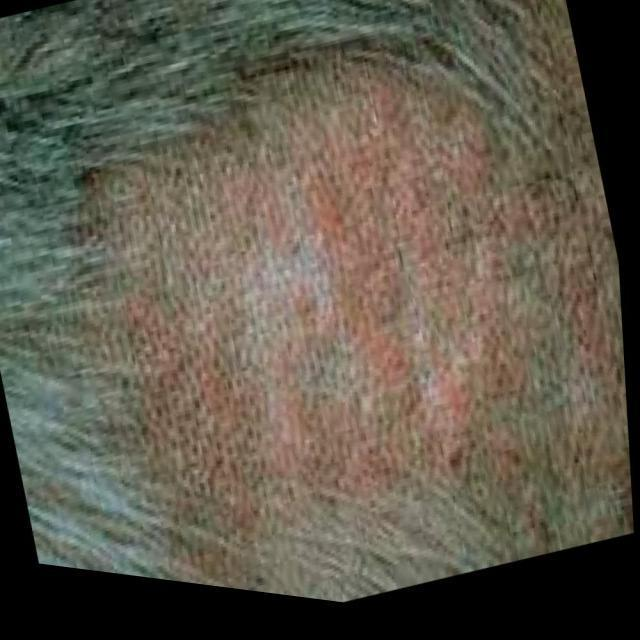allergic dermatitis: (74, 64, 544, 514)
